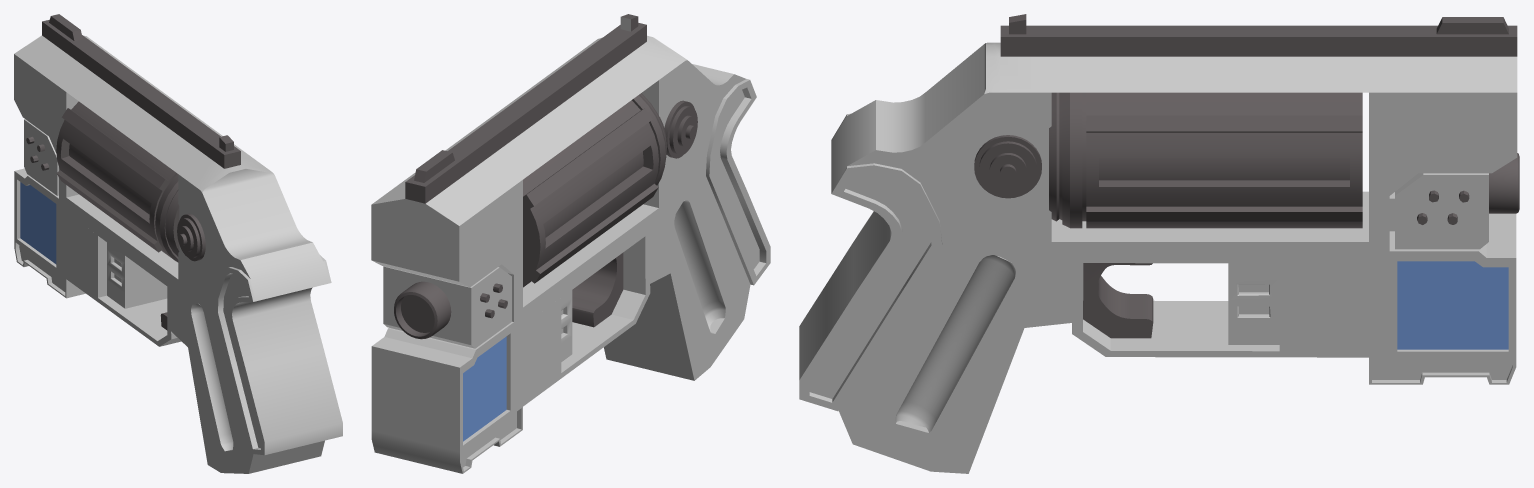
The model's file is silah2 2.fbx.
The picture shows the model from 3 angles, left to right: view 1: azimuth 30°, elevation 25°; view 2: azimuth 150°, elevation 25°; view 3: azimuth 270°, elevation 25°; orthographic projection. The views are drawn at different scales.
Parts seen in each view (by area): view 1: Cube, Cylinder, Cylinder.002; view 2: Cube, Cylinder, Cylinder.003, Cylinder.002; view 3: Cube, Cylinder, Cylinder.001, Cylinder.003.
Boxes of the visible parts, x1=… form: Cube: x1=14, y1=14, x2=342, y2=473; Cylinder: x1=56, y1=101, x2=179, y2=262; Cylinder.002: x1=177, y1=213, x2=205, y2=261; Cube: x1=371, y1=14, x2=770, y2=473; Cylinder: x1=523, y1=93, x2=667, y2=287; Cylinder.003: x1=394, y1=281, x2=451, y2=339; Cylinder.002: x1=664, y1=100, x2=697, y2=158; Cube: x1=799, y1=14, x2=1517, y2=473; Cylinder: x1=1049, y1=92, x2=1362, y2=228; Cylinder.001: x1=974, y1=135, x2=1041, y2=198; Cylinder.003: x1=1489, y1=153, x2=1519, y2=213.
Size of the model in its own units: 62.37 by 179 by 270.
